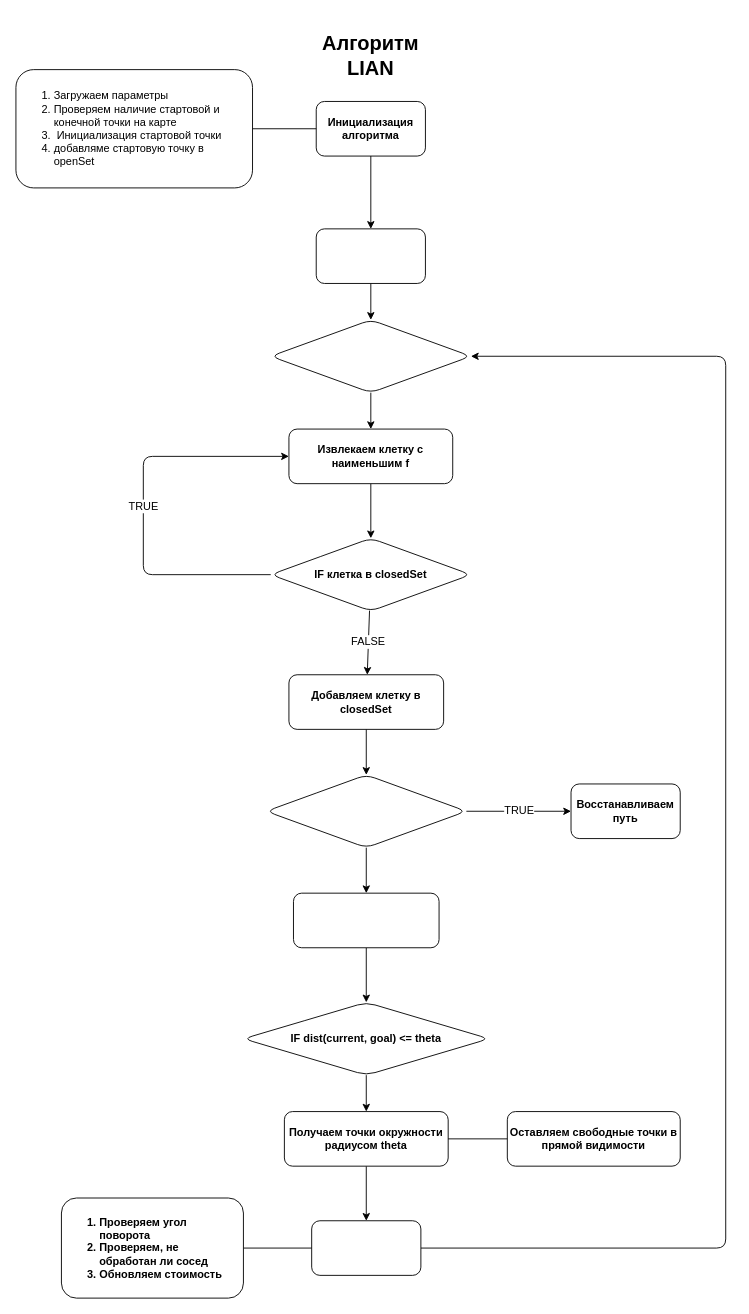
Some shapes in this 749 by 1314 pixel diagram are drawn without their labels. Here are the shapes that lost their labels. From the top down, the centre of each, then its label:
At point (370, 255): "Главный цикл".
At point (370, 356): "WHILE openSet не пуст".
At point (365, 811): "IF достигли цели".
At point (366, 920): "Обрабатываем соседей".
At point (366, 1247): "EXPAND".
